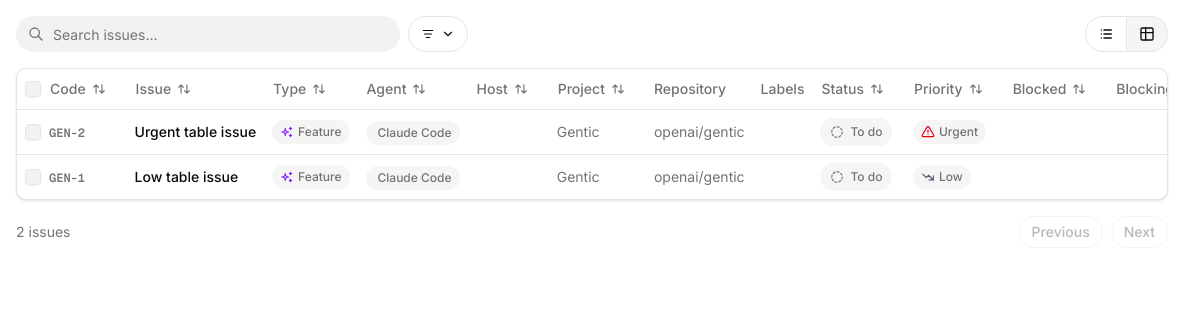
IssuesView priority triage › exposes accessible priority controls and a sortable table column
The image size is (1185, 330).
Click the button "Priority": [948, 89] box top-left (901, 73), bottom-right (996, 105)
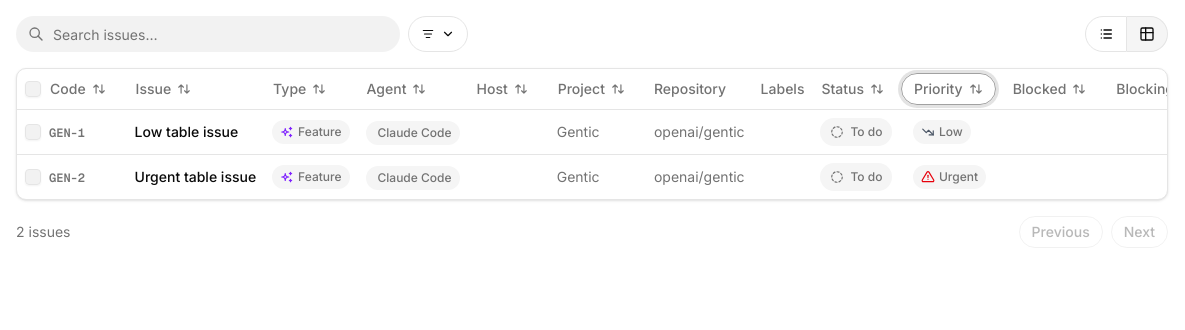
Click the button with aria-label "Change priority from Low": [942, 132] box top-left (913, 120), bottom-right (971, 144)
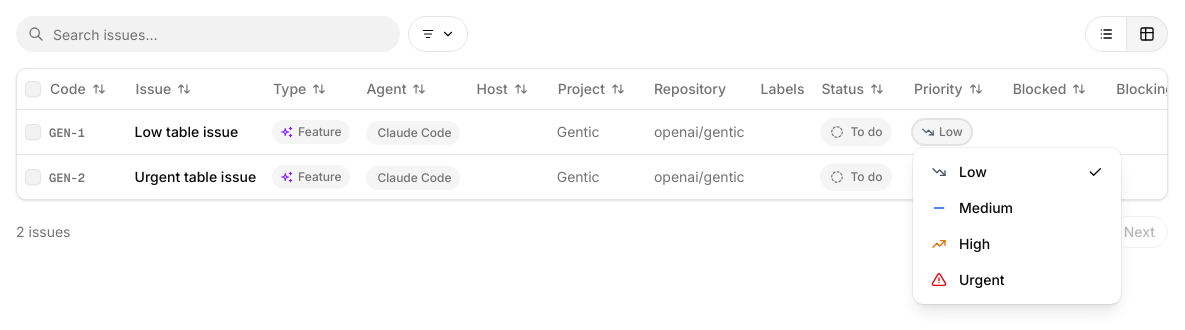
Result: the menu item "Urgent" is shown at top-left (931, 271), bottom-right (1005, 288)
Result: the menu item "Low" is shown at top-left (931, 163), bottom-right (1103, 180)
